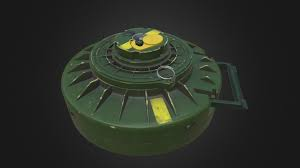car: (51, 22, 266, 167)
